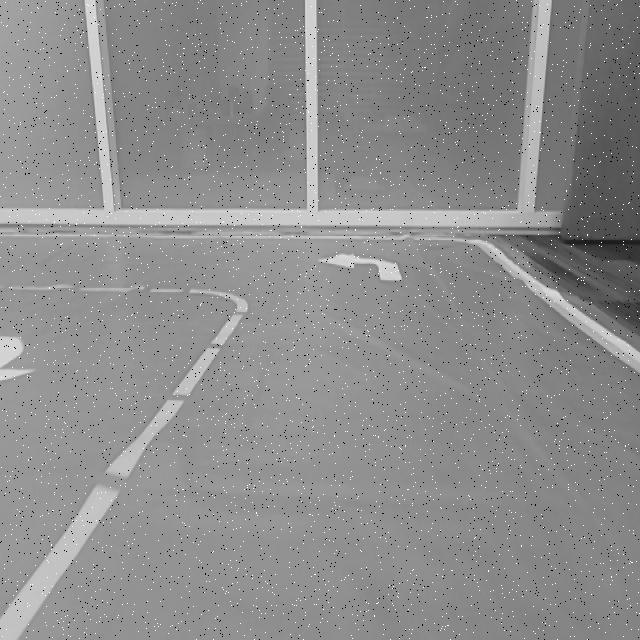left_lane: (0, 306, 249, 640)
right_lane: (480, 248, 640, 375)
